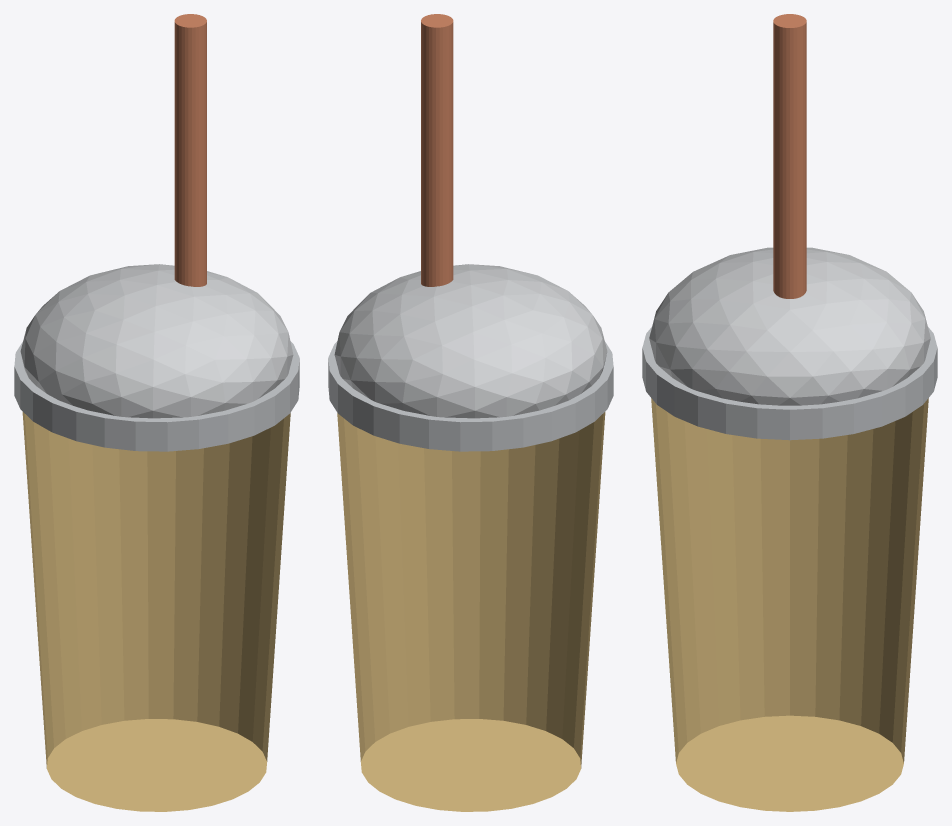
The model's file is juice-cup.glb.
The picture shows the model from 3 angles, left to right: view 1: azimuth 30°, elevation 25°; view 2: azimuth 150°, elevation 25°; view 3: azimuth 270°, elevation 25°; orthographic projection. The views are drawn at different scales.
Parts seen in each view (by area): view 1: geometry_0, geometry_2, geometry_1, geometry_3; view 2: geometry_0, geometry_2, geometry_1, geometry_3; view 3: geometry_0, geometry_2, geometry_1, geometry_3.
Part boxes in pixels (box(x1,y1,x2,y2)): geometry_0: box(22, 412, 290, 811); geometry_2: box(20, 264, 293, 418); geometry_1: box(14, 341, 299, 451); geometry_3: box(174, 14, 206, 286); geometry_0: box(337, 412, 605, 811); geometry_2: box(334, 264, 607, 418); geometry_1: box(328, 341, 613, 451); geometry_3: box(421, 14, 453, 286); geometry_0: box(651, 398, 928, 811); geometry_2: box(649, 247, 930, 405); geometry_1: box(642, 327, 937, 440); geometry_3: box(773, 14, 806, 298).
Bounding box in the file's own units: 0.088 × 0.25 × 0.088.
